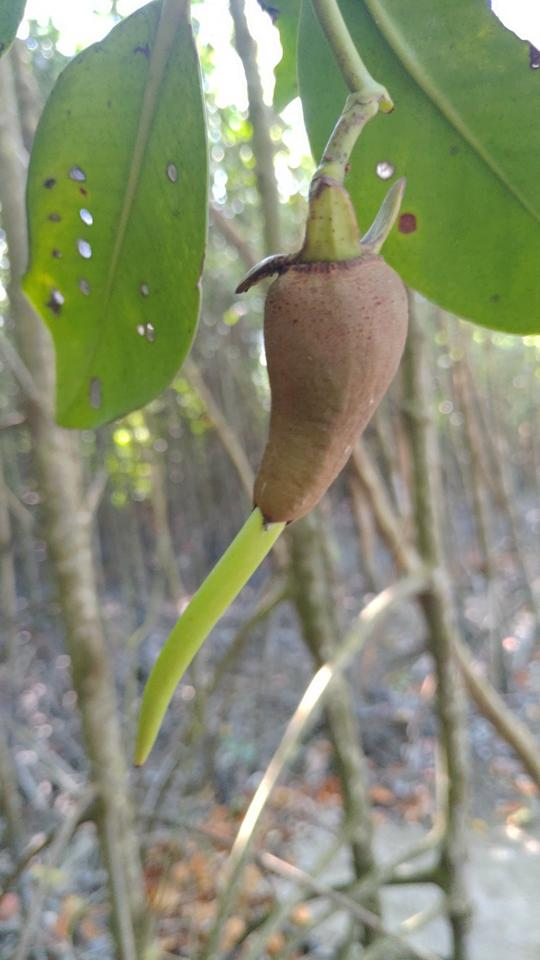mentah: (101, 188, 427, 781)
